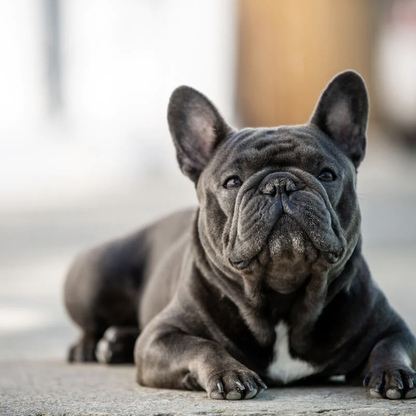bulldog: (56, 71, 416, 408)
